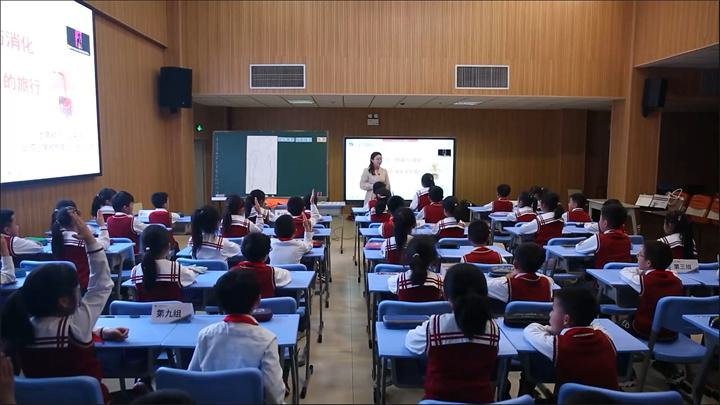distraction: (530, 280, 612, 363)
hands-up: (20, 211, 112, 346), (47, 201, 112, 241), (272, 212, 317, 264), (285, 184, 328, 225), (227, 190, 264, 234)
listen: (186, 272, 284, 377), (417, 264, 504, 373), (623, 242, 686, 299), (123, 223, 185, 279), (497, 245, 556, 303), (584, 201, 633, 263), (228, 229, 285, 280), (188, 201, 229, 260), (107, 190, 147, 237), (486, 180, 511, 215)
stand: (412, 167, 442, 216)
